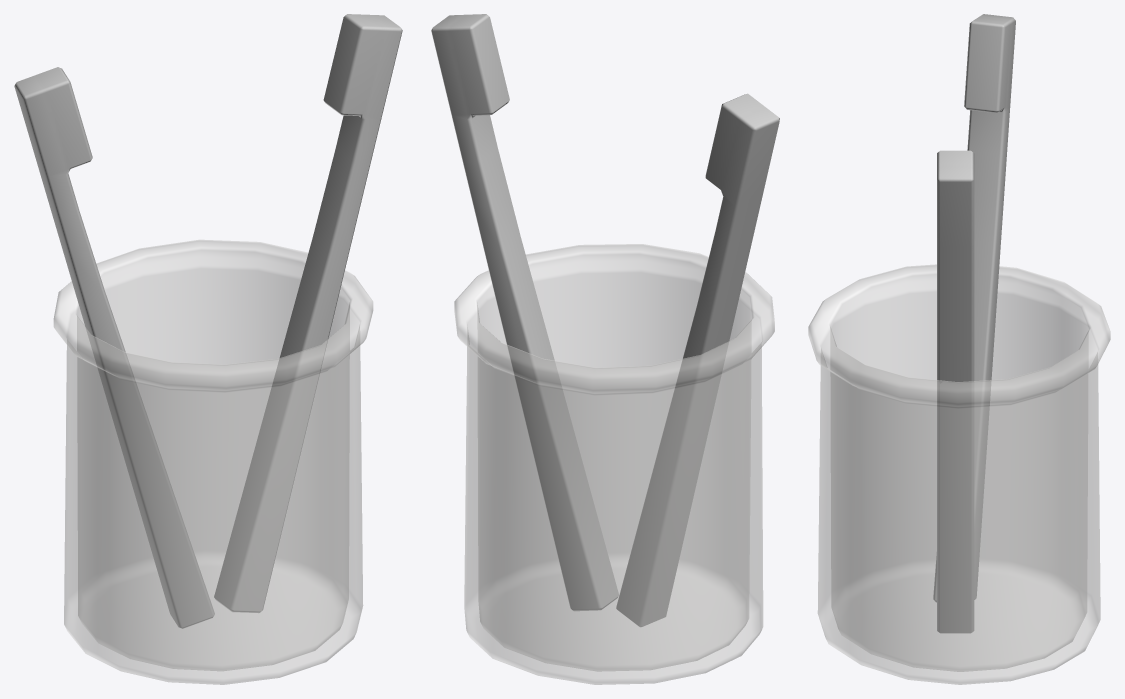
File: Toothbrush_2.fbx
3 renders of one model, left to right at view 1: azimuth 30°, elevation 25°; view 2: azimuth 150°, elevation 25°; view 3: azimuth 270°, elevation 25°, orthographic. The views are drawn at different scales.
Visible parts, largest first — view 1: Toothbrush_2; view 2: Toothbrush_2; view 3: Toothbrush_2.
Part boxes in pixels (x1,y1,x2,y2): Toothbrush_2: [14, 14, 402, 684]; Toothbrush_2: [431, 14, 779, 684]; Toothbrush_2: [808, 14, 1110, 684].
Size of the model in its own units: 15.61 by 24.1 by 12.13.
